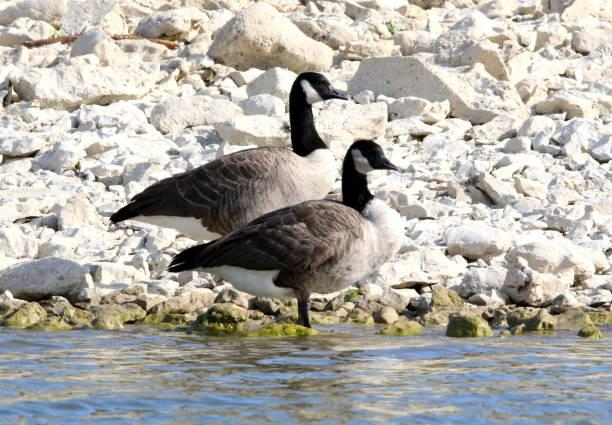Canadian-Goose: (174, 138, 401, 330), (114, 72, 347, 216)
